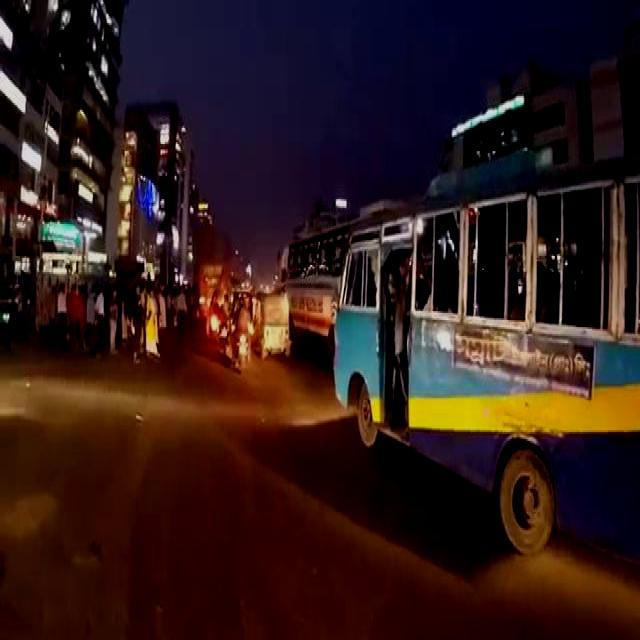BUS: (332, 151, 640, 548)
